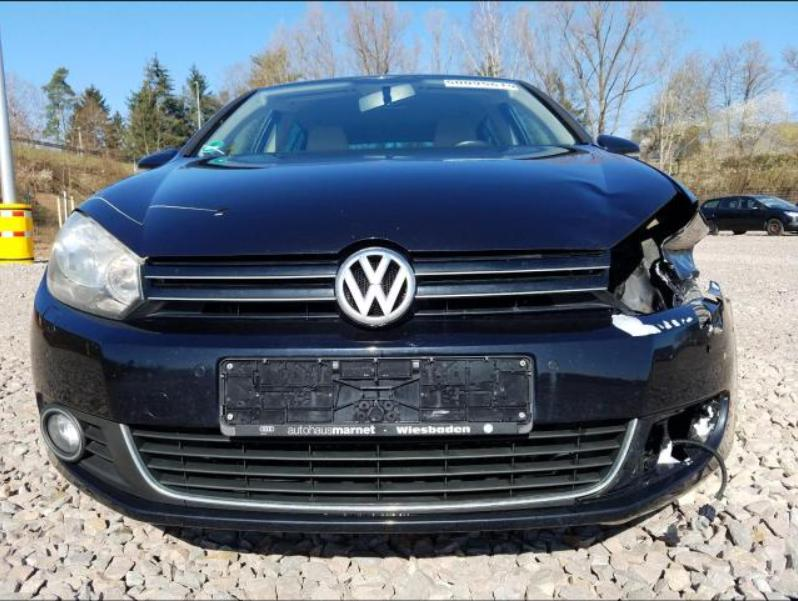Fender: (656, 168, 712, 279)
Front-bumper: (31, 275, 738, 534)
Grille: (124, 239, 612, 341)
Headlight: (45, 212, 144, 318)
Hood: (78, 148, 678, 256)
License-plate: (219, 356, 534, 436)
Mirror: (599, 136, 639, 155), (138, 151, 176, 169)
Windshield: (173, 79, 588, 169)
